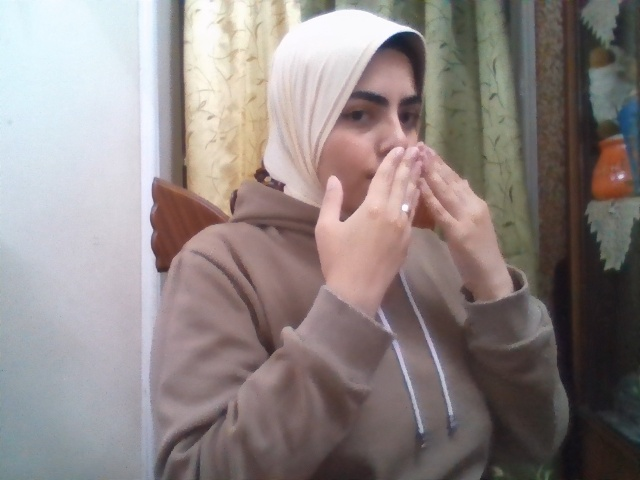thanks: (314, 142, 515, 288)
